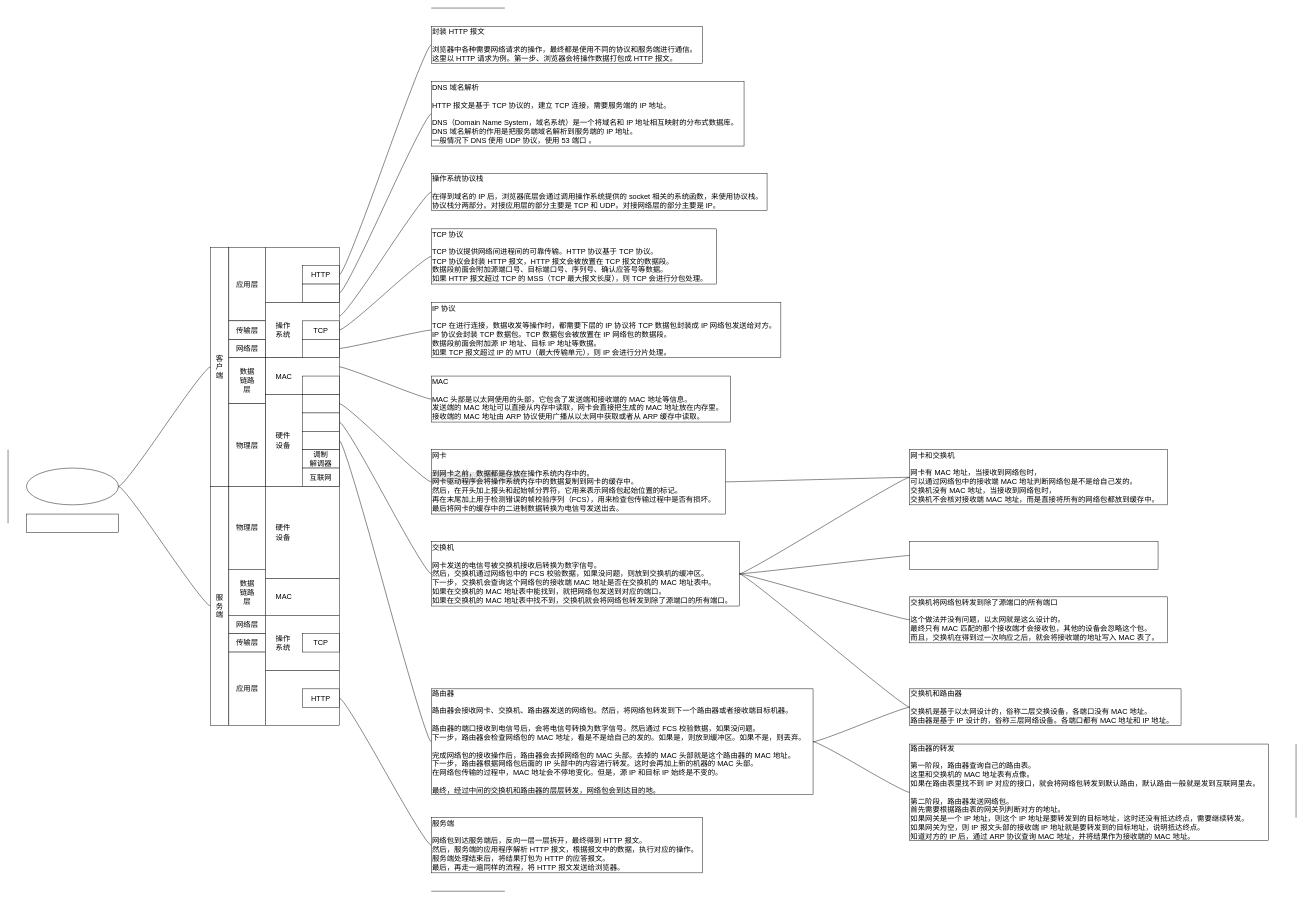
This 1305x900 diagram has some shape labels left out. Grey dashed boxes stand in for pictures. Each missing label, with the box of its shape:
ARP: (302, 376, 339, 394)
DNS: (302, 284, 339, 302)
HTTP 请求的过程: (26, 468, 118, 505)
https://github.com/KelipuTe 2022-05-02: (26, 514, 118, 532)
IP: (302, 339, 339, 358)
Nginx: (265, 670, 339, 726)
交换机: (302, 412, 339, 431)
交换机的 MAC 地址表 地址表 主要包含两个信息：某个设备的 MAC 地址和该设备在哪个端口上。: (909, 541, 1158, 569)
浏览器: (265, 247, 339, 302)
网卡: (302, 394, 339, 413)
路由器: (302, 431, 339, 450)
